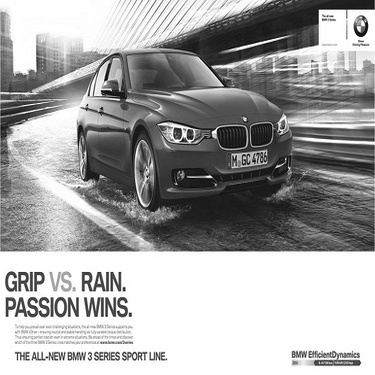car: (64, 38, 303, 219)
